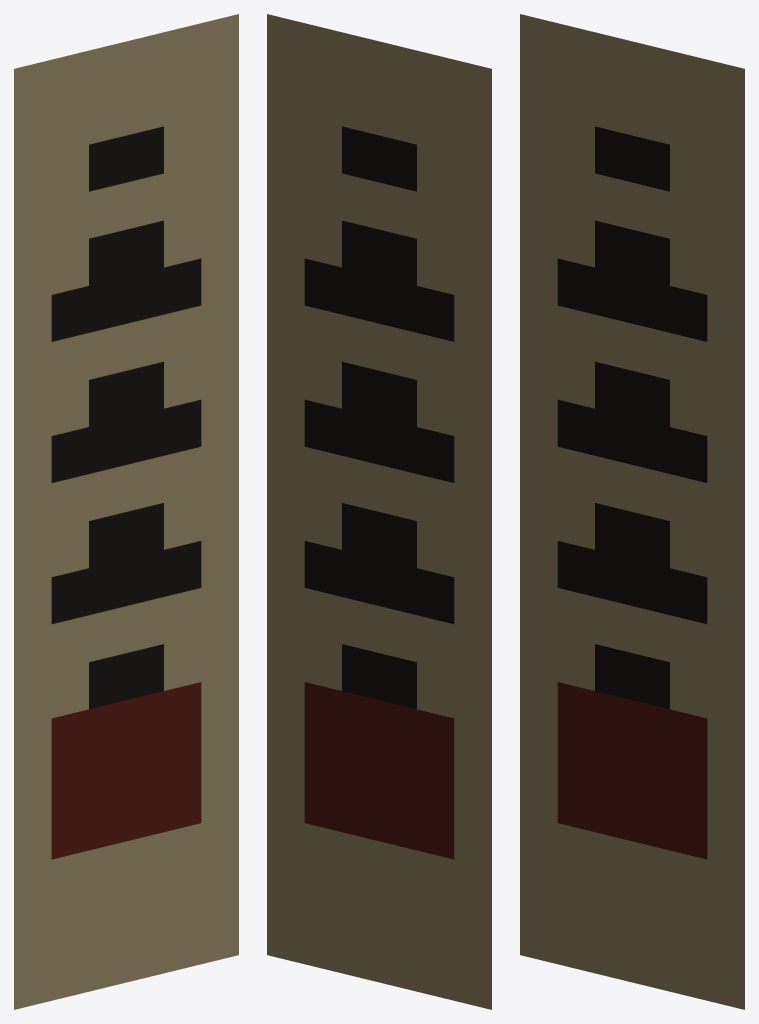
Rendered from paper_talisman.glb.
The picture shows the model from 3 angles, left to right: view 1: azimuth 30°, elevation 25°; view 2: azimuth 150°, elevation 25°; view 3: azimuth 330°, elevation 25°; orthographic projection.
Visible parts, largest first — view 1: CandidateMesh; view 2: CandidateMesh; view 3: CandidateMesh.
Boxes of the visible parts, box(x1,y1,x2,y2) form: CandidateMesh: box(14, 14, 238, 1009); CandidateMesh: box(267, 14, 491, 1009); CandidateMesh: box(520, 14, 744, 1009).
Bounding box in the file's own units: 0.08 × 0.32 × 0.
